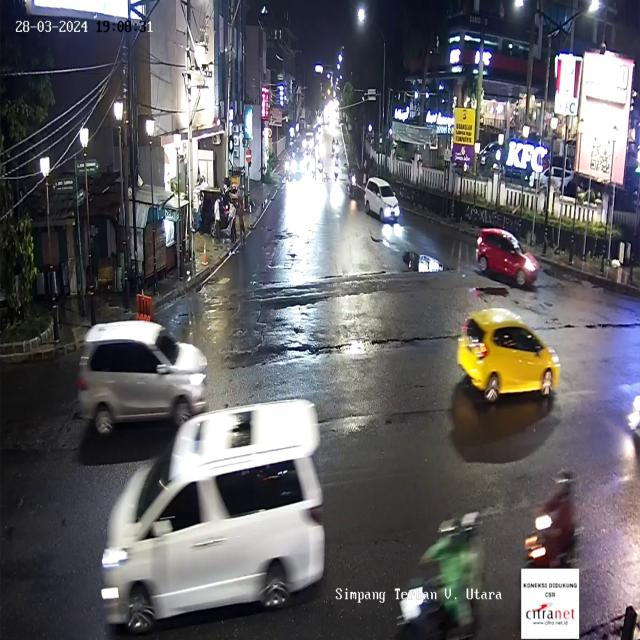car: (100, 398, 330, 639), (75, 322, 209, 437), (458, 310, 562, 403), (475, 227, 540, 288), (364, 178, 401, 226)
motorcycle: (394, 507, 493, 640), (520, 467, 582, 573)
